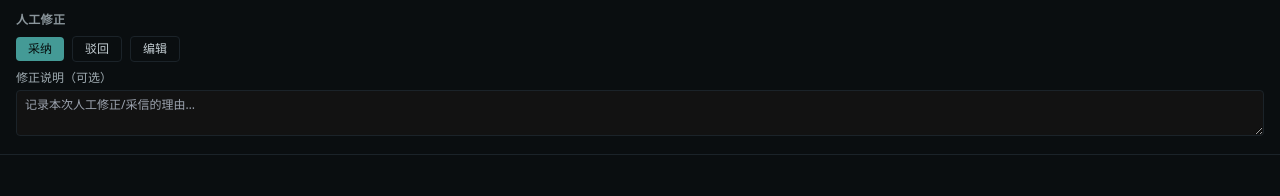
Test case: CorrectionControls › shows an inline error message on API failure without crashing
Step 1. Click the button "采纳" → (40, 49), box [16,37,64,61]
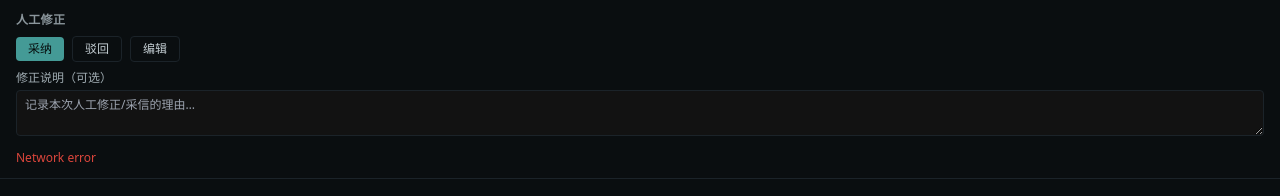
expect the message reads "Network error": met, box [16,149,96,166]
